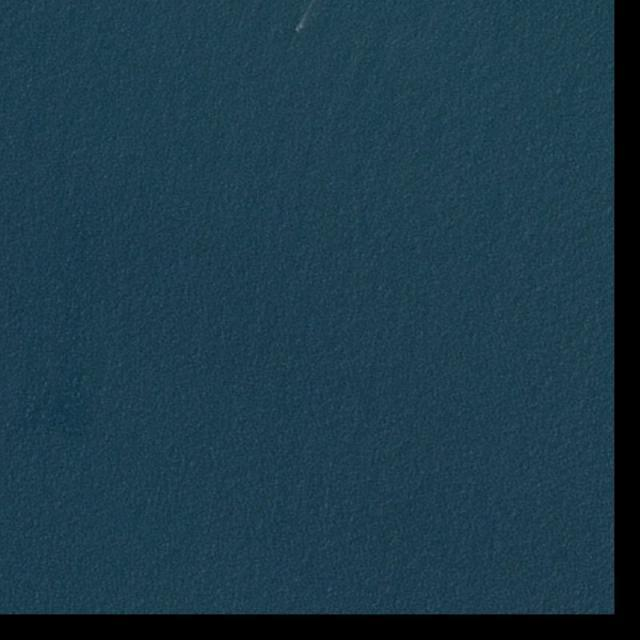ship: (295, 25, 304, 32)
